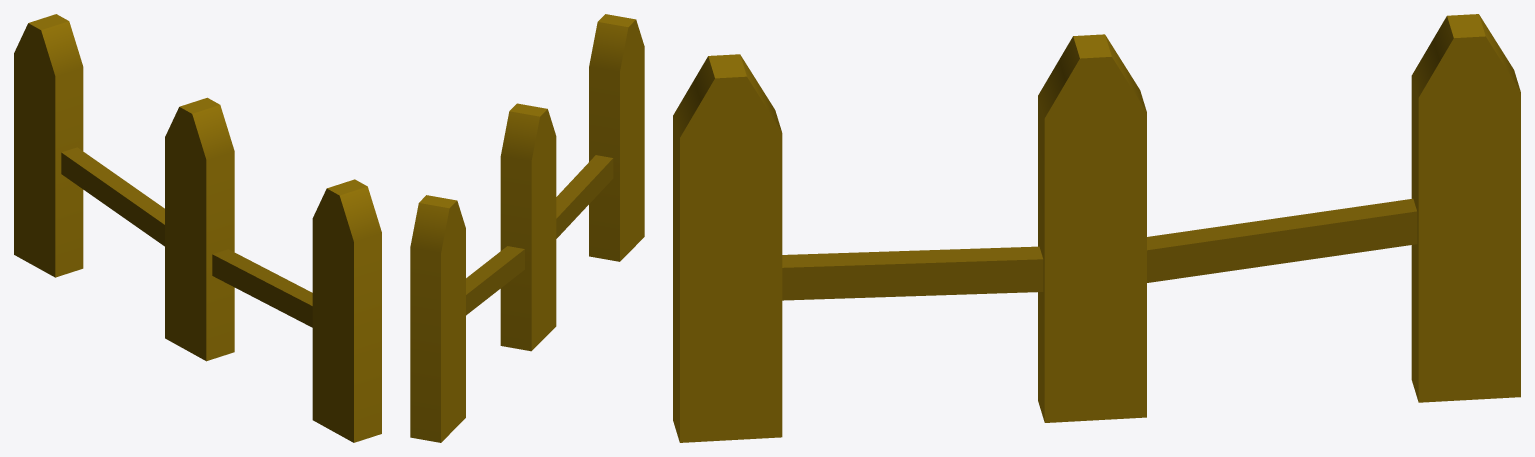
The model's file is fence.fbx.
3 renders of one model, left to right at view 1: azimuth 30°, elevation 25°; view 2: azimuth 150°, elevation 25°; view 3: azimuth 270°, elevation 25°, orthographic. The views are drawn at different scales.
Visible parts, largest first — view 1: fence; view 2: fence; view 3: fence.
Boxes of the visible parts, x1,y1,x2,y2 form: fence: (14, 14, 381, 442); fence: (410, 14, 644, 442); fence: (673, 14, 1520, 442).
Size of the model in its own units: 5.19 by 12.86 by 27.25.
